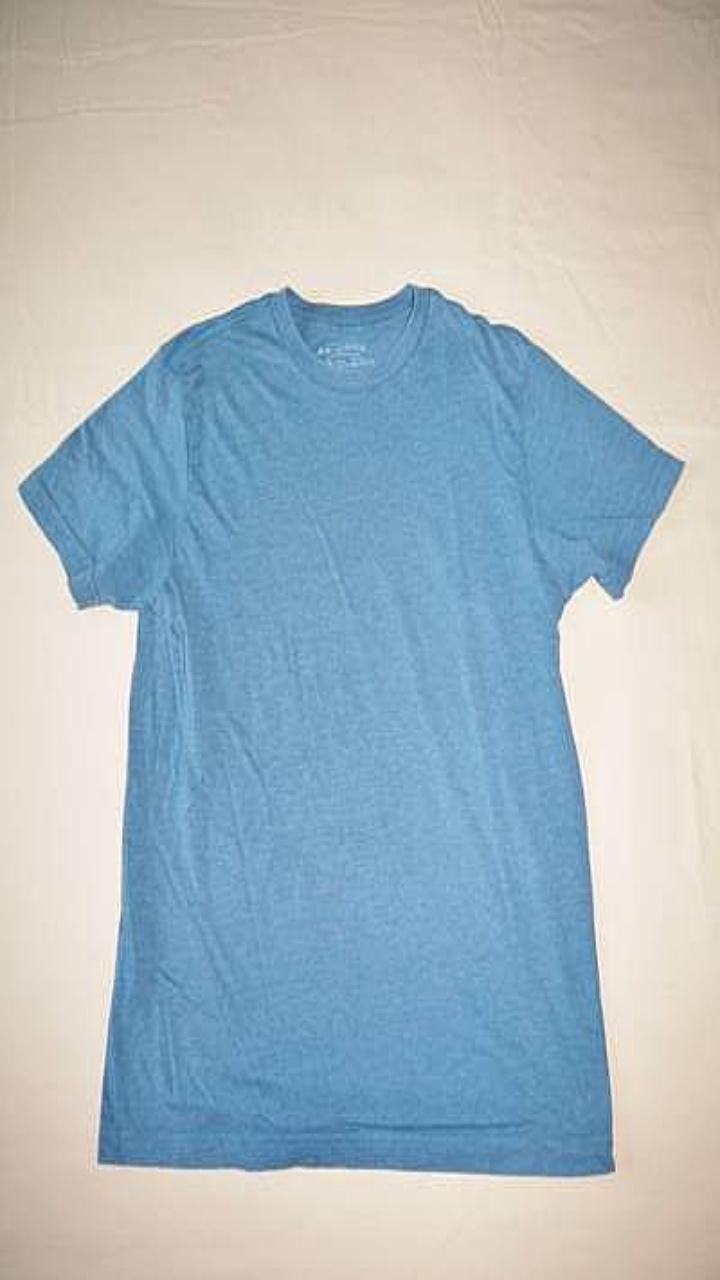T-Shirt: (19, 283, 684, 1174)
